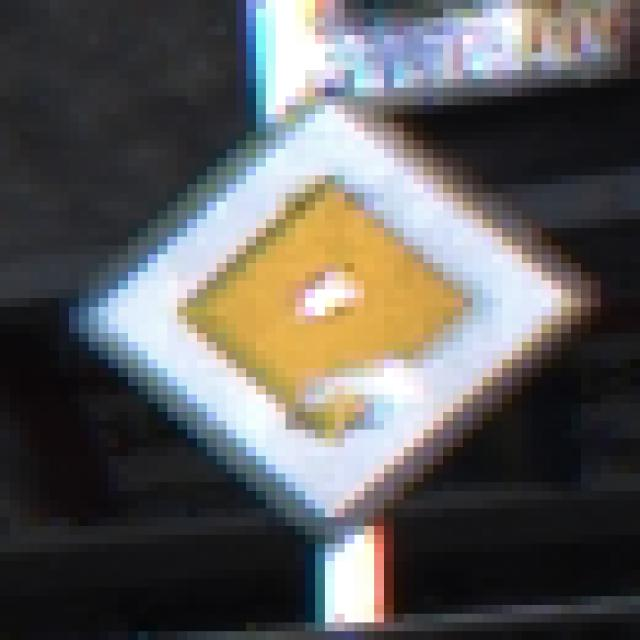Main Road: (60, 54, 592, 589)
